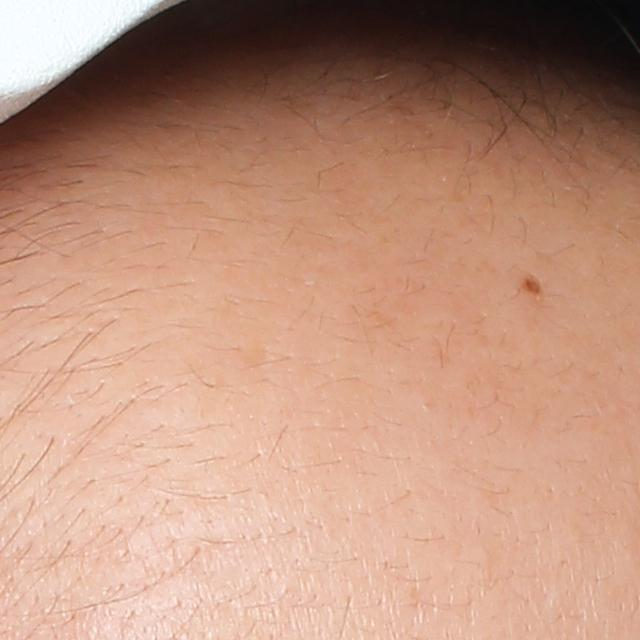nevus: (518, 272, 543, 300)
